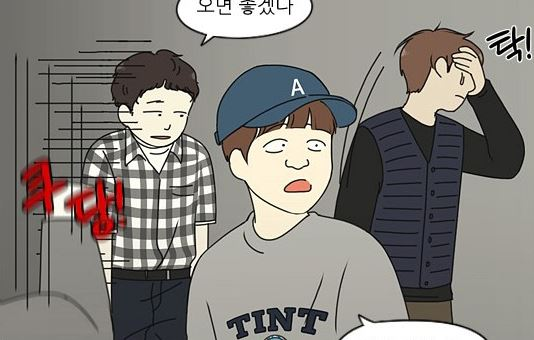hat: (214, 65, 357, 140)
